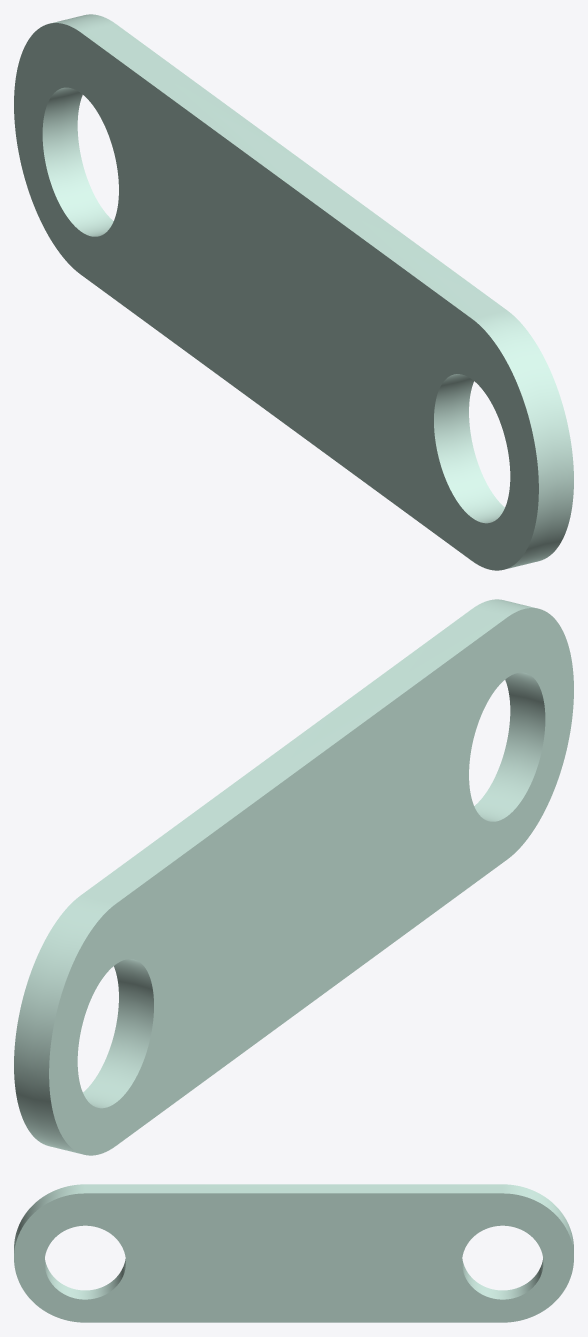
3 views of the same model, one above another, from view 1: azimuth 30°, elevation 25°; view 2: azimuth 150°, elevation 25°; view 3: azimuth 270°, elevation 25° (orthographic). The views are drawn at different scales.
Parts seen in each view (by area): view 1: Renderer Node; view 2: Renderer Node; view 3: Renderer Node.
Boxes of the visible parts, x1,y1,x2,y2 form: Renderer Node: [14, 14, 573, 570]; Renderer Node: [14, 599, 573, 1155]; Renderer Node: [14, 1184, 573, 1322].
Bounding box in the file's own units: 0.0625 × 0.4122 × 1.62.
